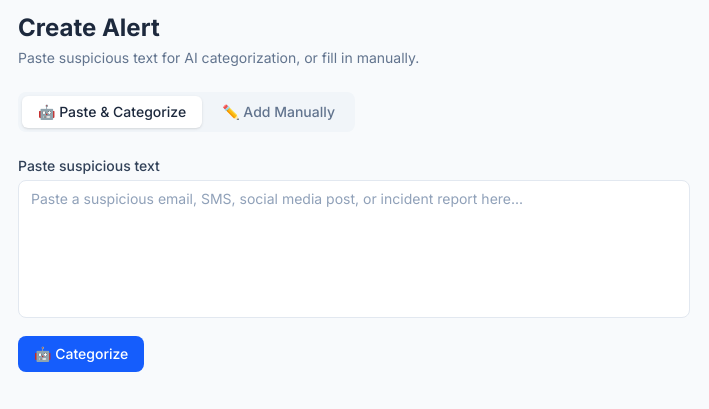
Test: Fallback — AI Failure › uses keyword fallback when AI categorize API fails
The image size is (709, 409).
Type "Click here to verify your account credentials immediately" into the text box with placeholder "Paste a suspicious email" at [354, 249], box [18, 180, 690, 318]
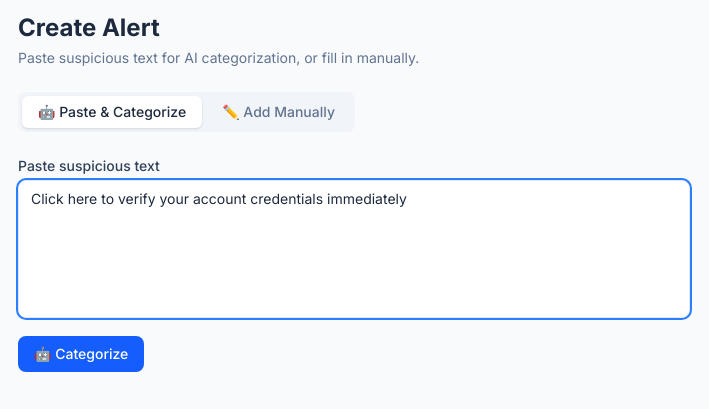
Click categorize
Click the button "🤖 Categorize" at [81, 354], box [18, 336, 144, 372]
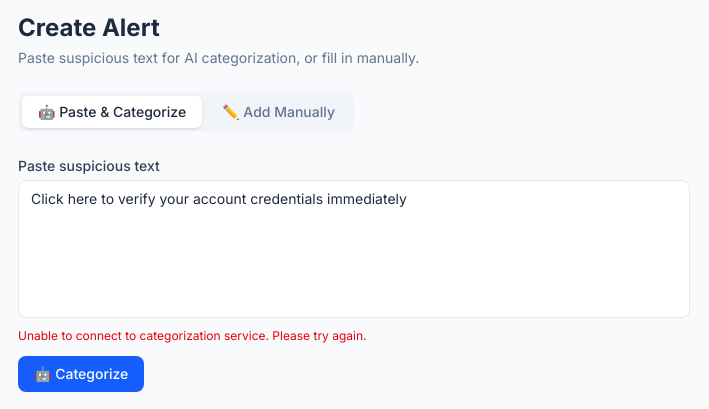
Now the text "Unable to connect to categorization service. Please try again." is shown, box [18, 328, 366, 343]
